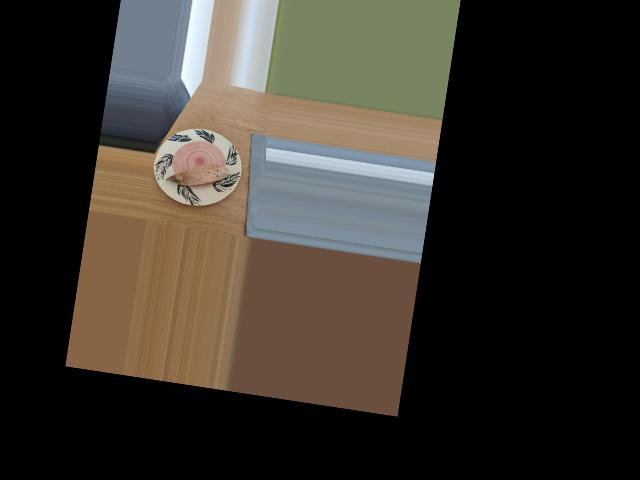sweet_potato: (170, 154, 227, 196)
